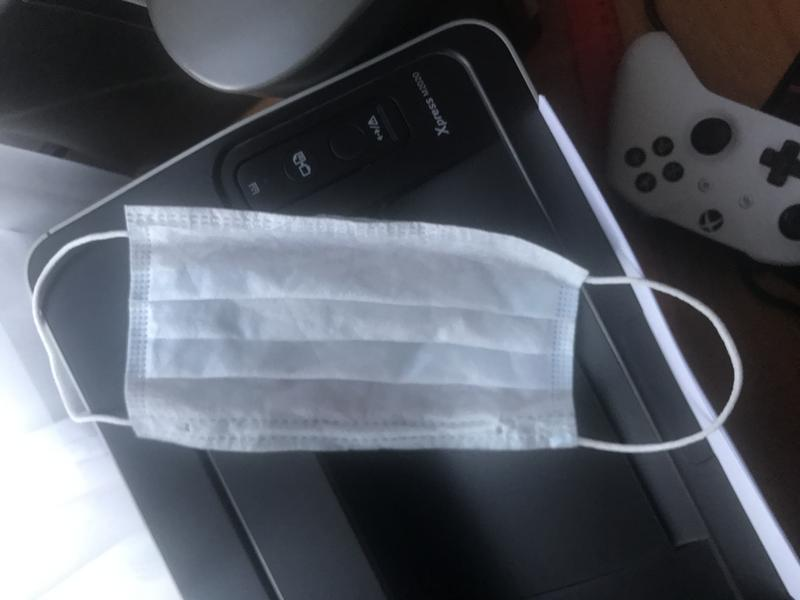medical_mask: (31, 206, 742, 454)
